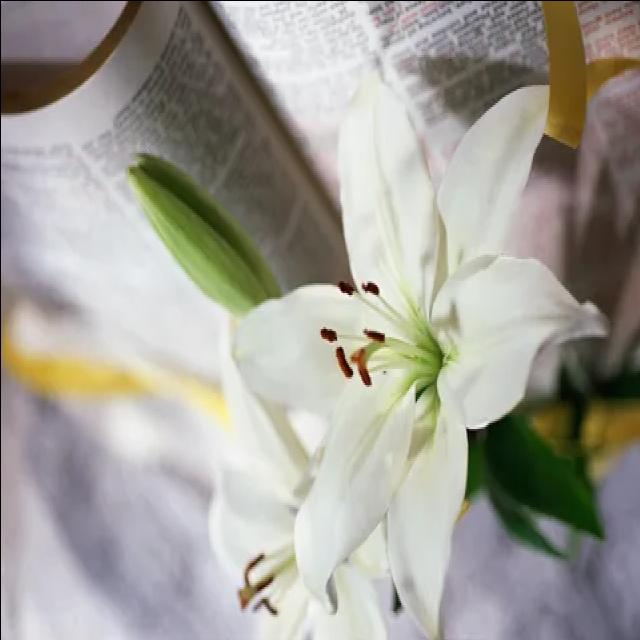lily: (218, 45, 608, 635)
